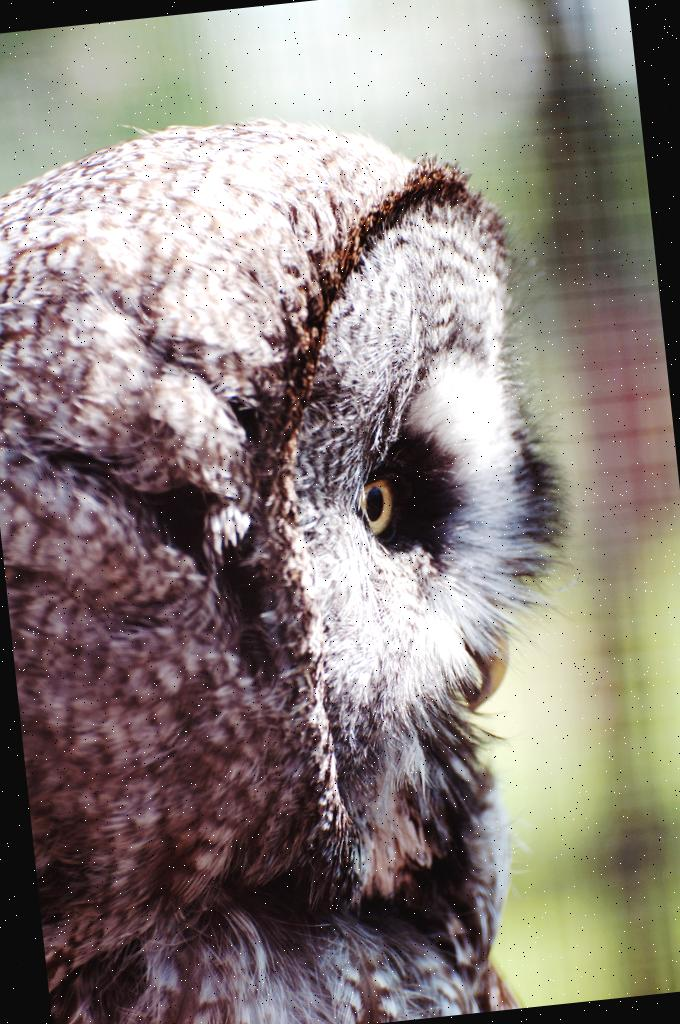Owl: (0, 92, 608, 1024)
